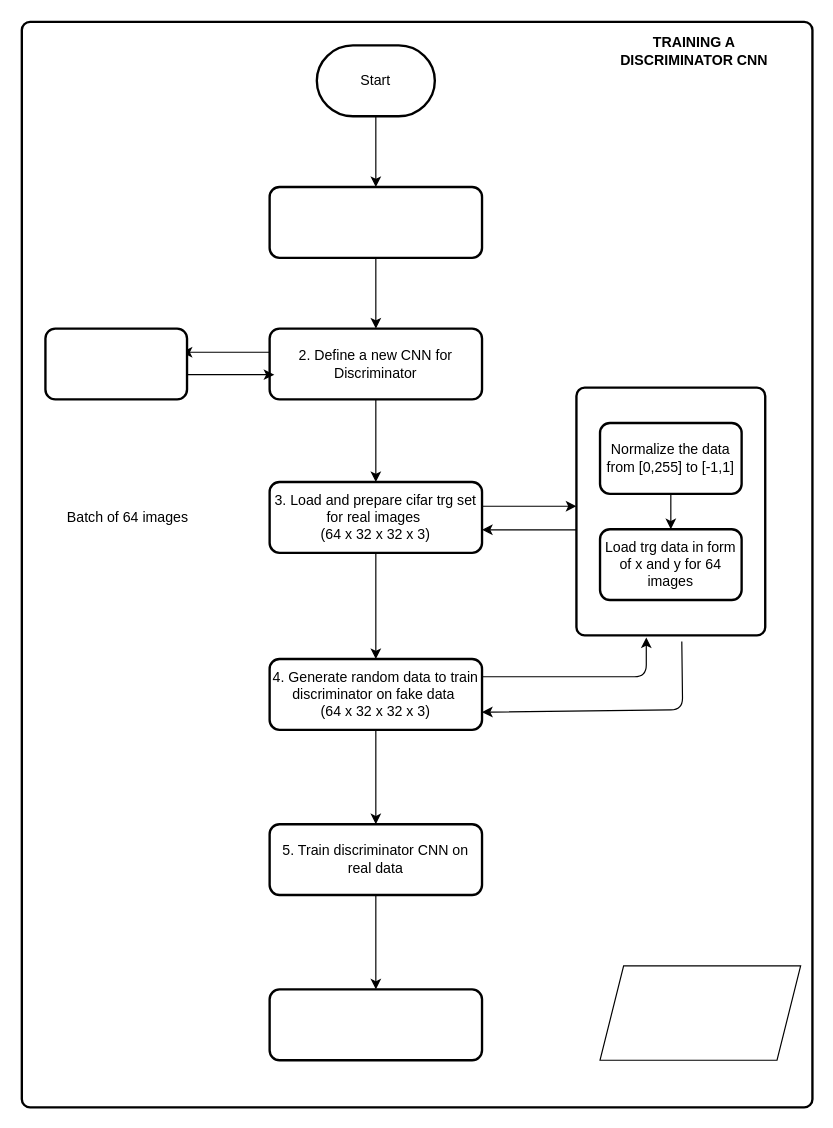
Some shapes in this 833 by 1128 pixel diagram are drawn without their labels. The centre of each missing label's shape, as x and y in pixels:
1. Load sample real images: [375,221]
2.1 Instantiate the model: [116,363]
6. Train discriminator CNN on fake data: [375,1024]
64 X 32 X 32 X 3 Training set : 64 real and 64 fake images.: [700,1012]
